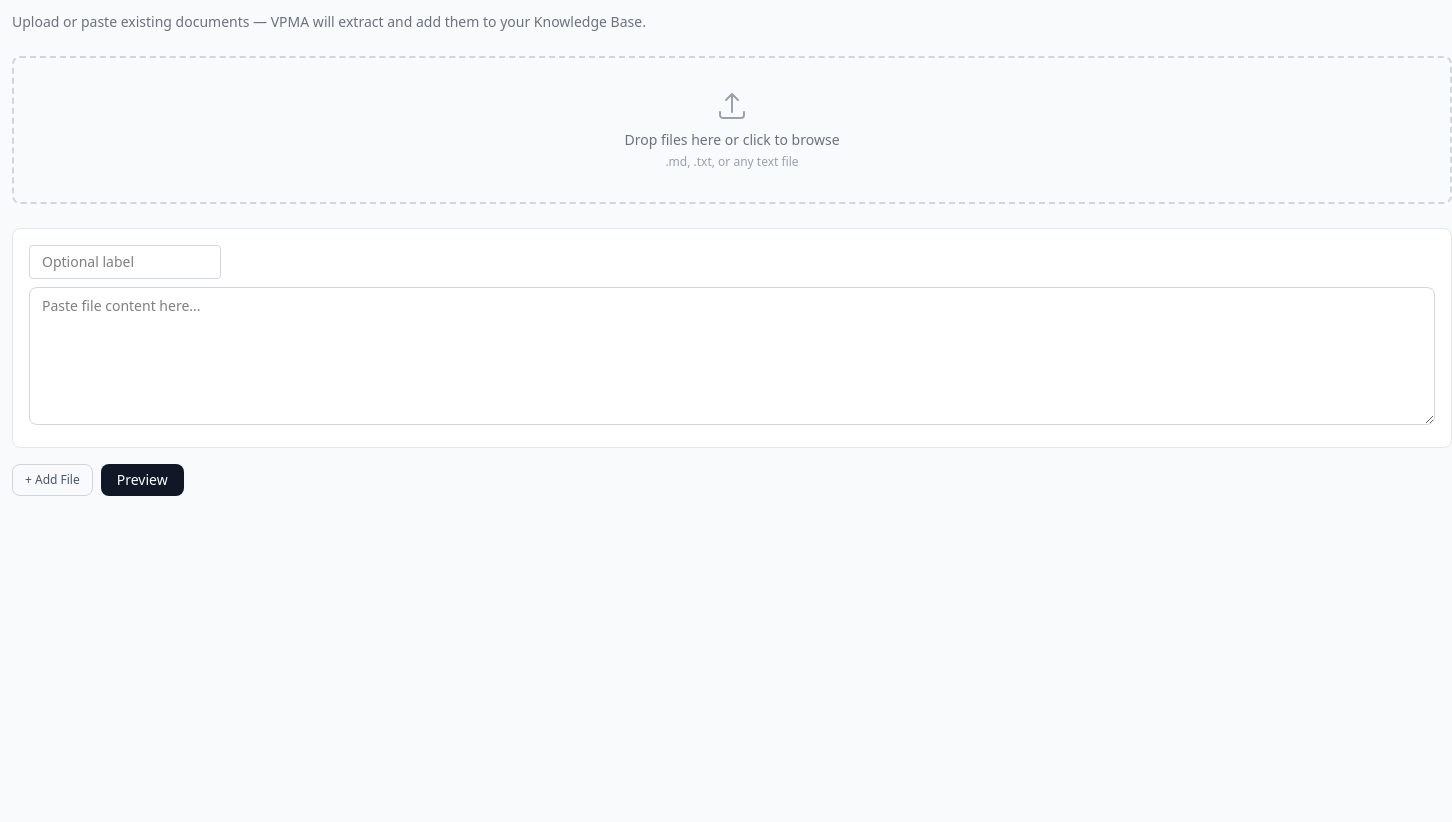
Test: Intake › adds a file when Add File clicked
Click the button "+ Add File" at (52, 480), box x1=12 y1=464 x2=93 y2=496
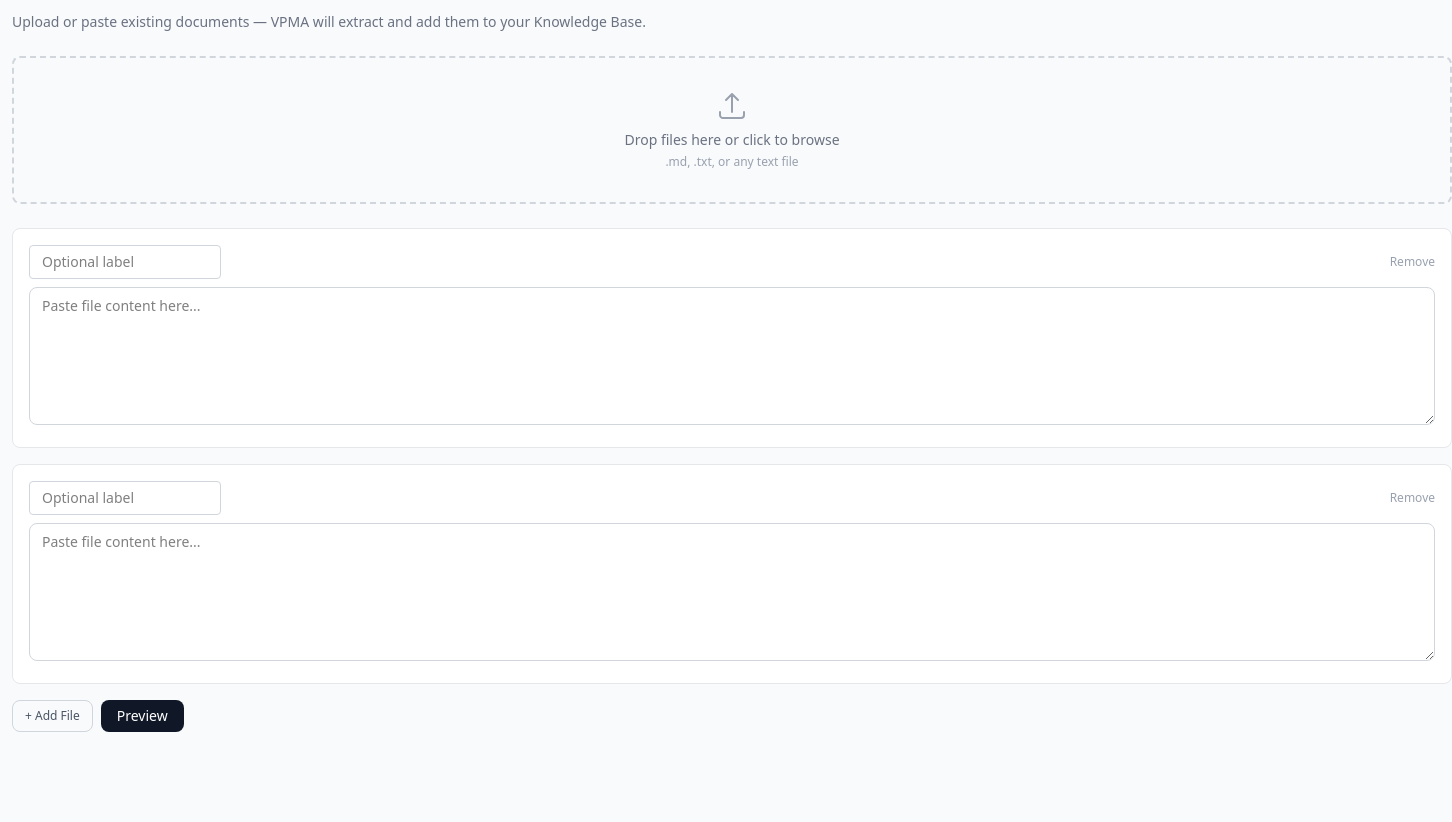
Check: the number of text boxes with placeholder "Paste file content here..." is 2, box x1=29 y1=287 x2=1435 y2=425; x1=29 y1=523 x2=1435 y2=661
